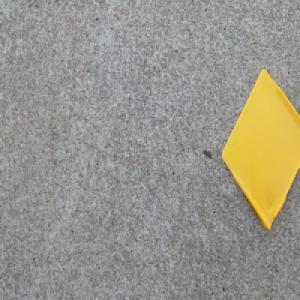PlasticPart: (220, 66, 300, 233)
